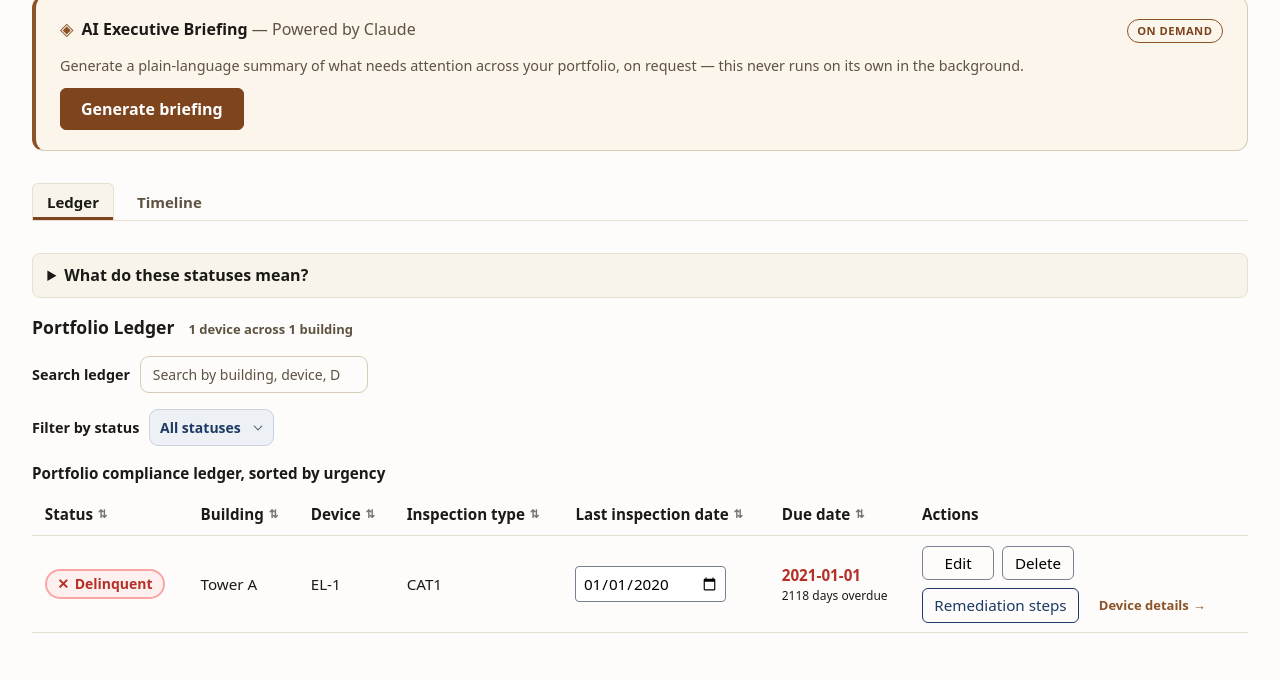
App › edits an elevator from the ledger's Edit button, saves via updateElevator, and returns to create mode
(page scrolled)
Click the button with aria-label "edit el-1": (958, 563) 922,546 -> 994,580
(page scrolled)
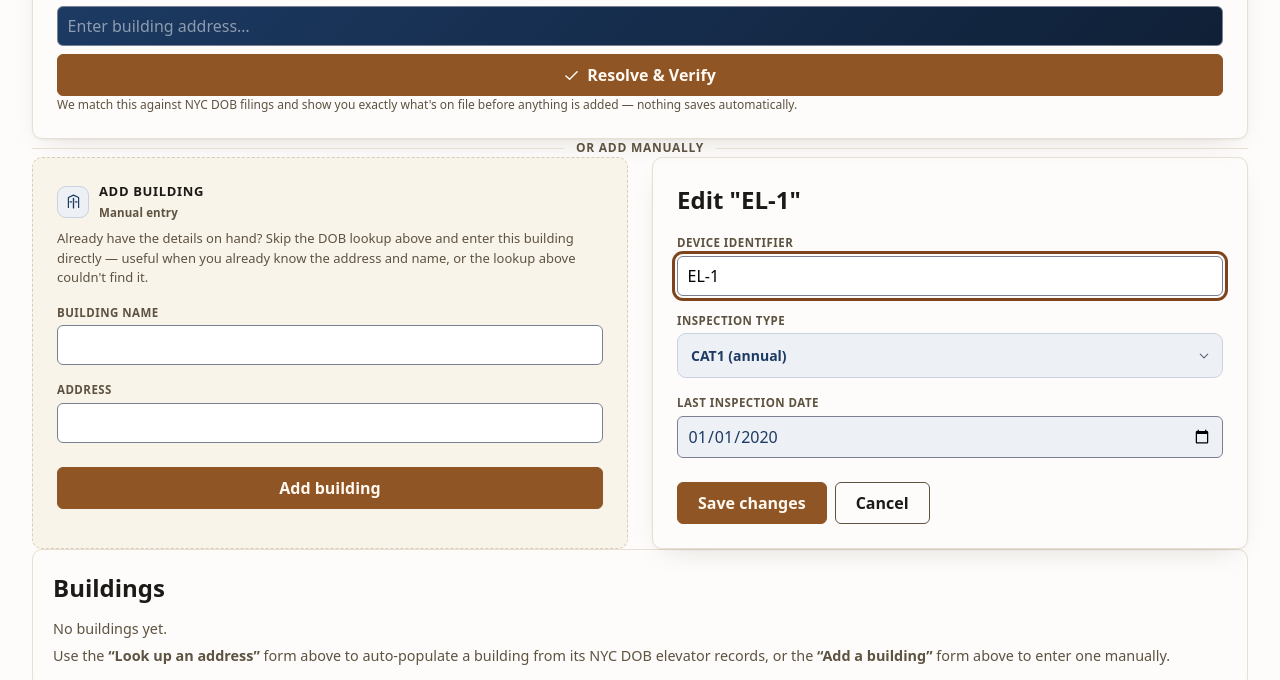
Result: the field labelled "Device identifier" holds "EL-1"
Replace the text in the field labelled "Device identifier" with "EL-1B": (950, 276) 677,256 -> 1223,296
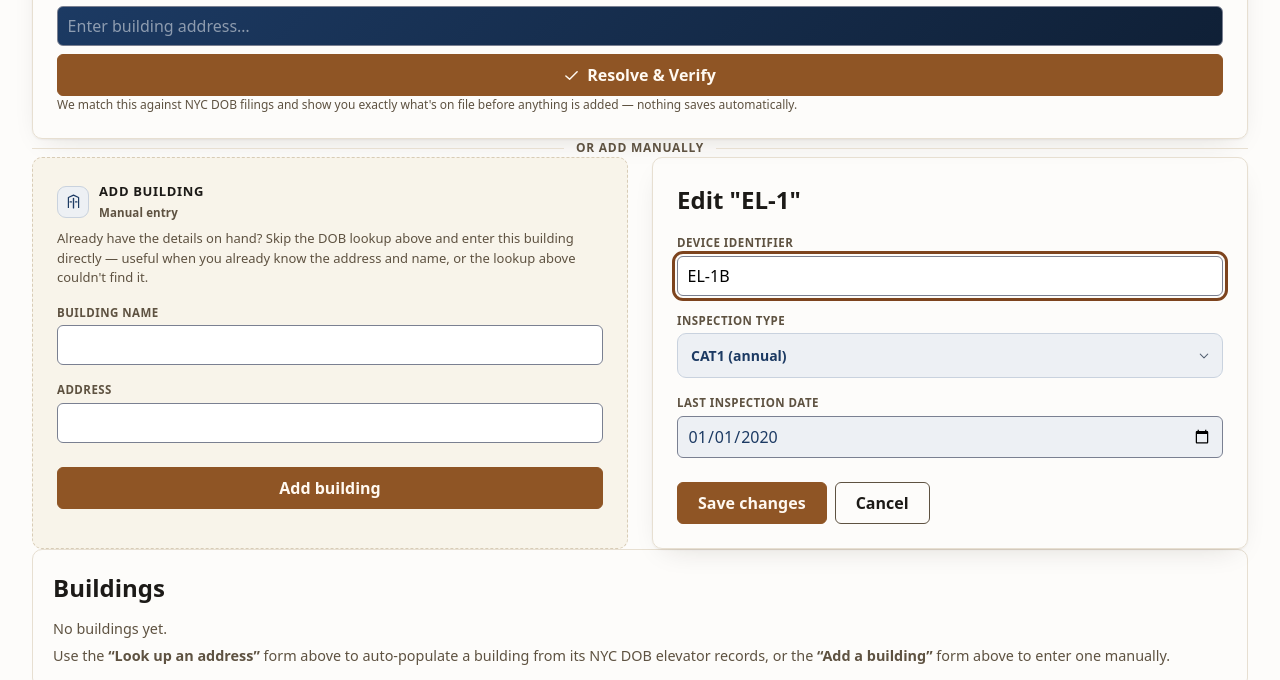
Click the button "Save changes": (752, 503) 677,482 -> 827,524
(page scrolled)
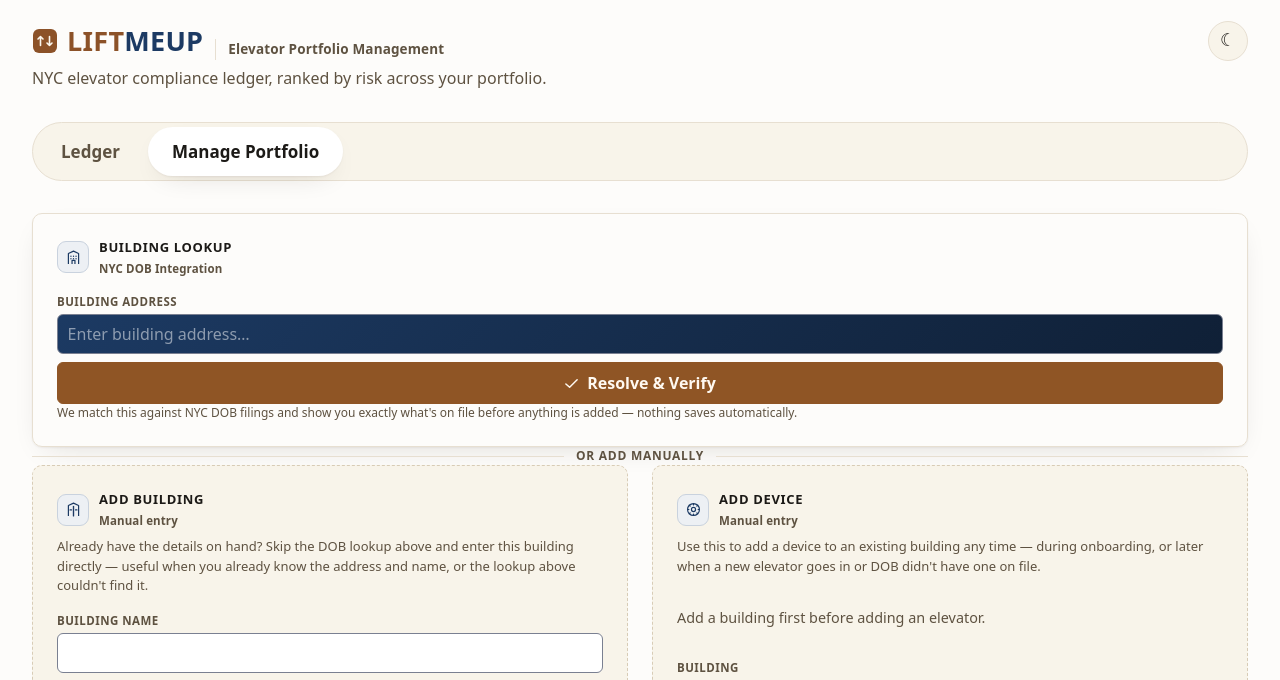
Click the tab "Ledger": (90, 151) 37,126 -> 144,176
(page scrolled)
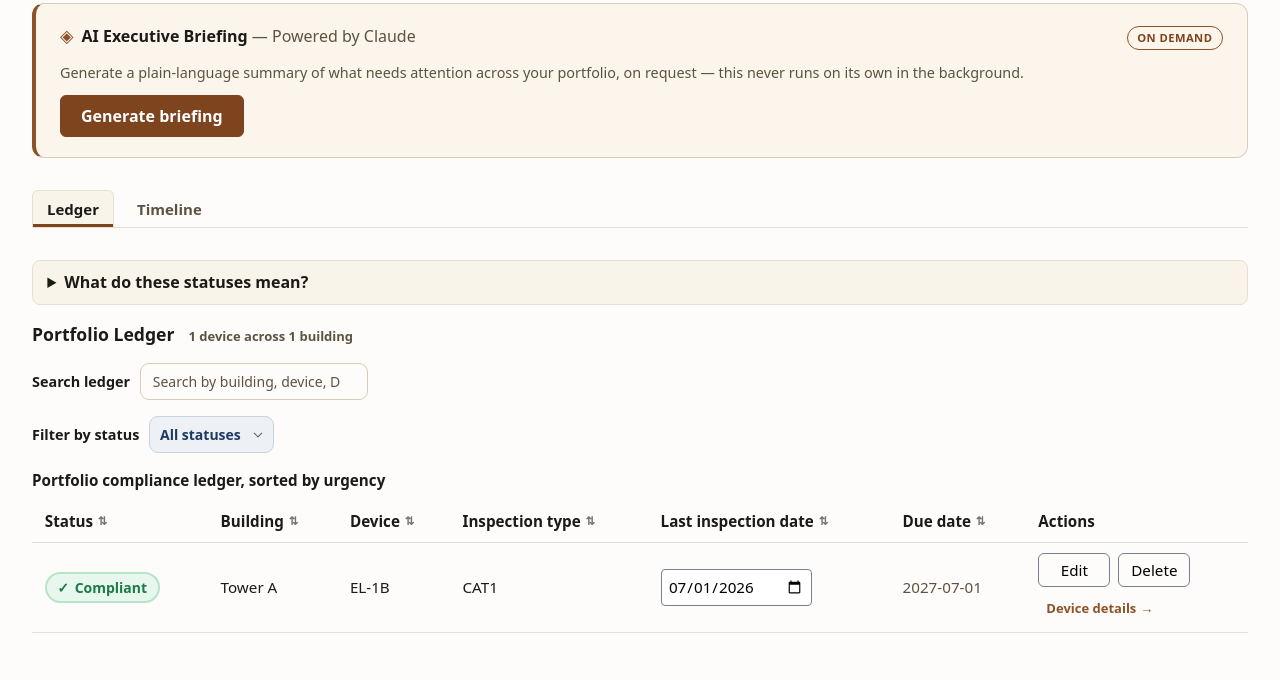
Result: the text "EL-1B" is shown at 337,543 -> 450,633
